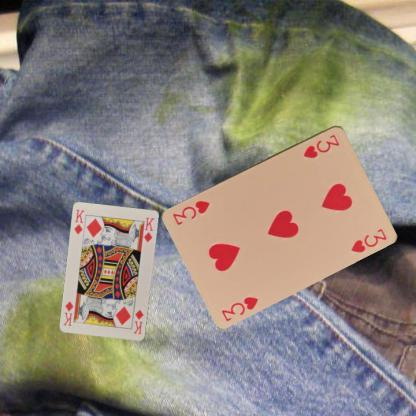3h: (218, 294, 259, 323), (300, 132, 341, 159)
Kd: (131, 306, 145, 336), (72, 207, 86, 236)
